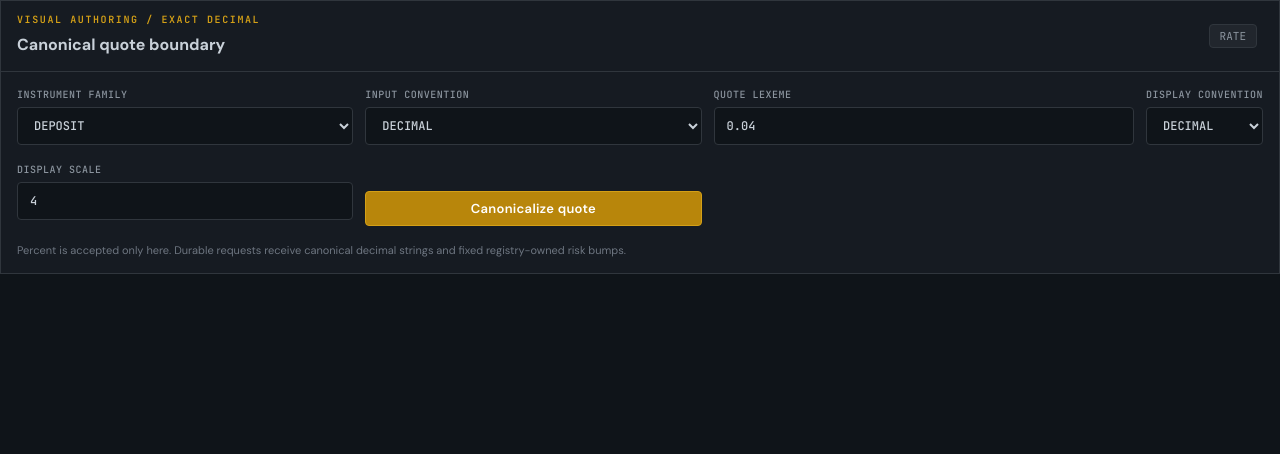
Test: Curve Lab quote authoring › replaces percent authoring with returned canonical financial bytes
Select "IRS" in the dropdown labelled "Instrument family" at [185, 126], box [17, 107, 353, 145]
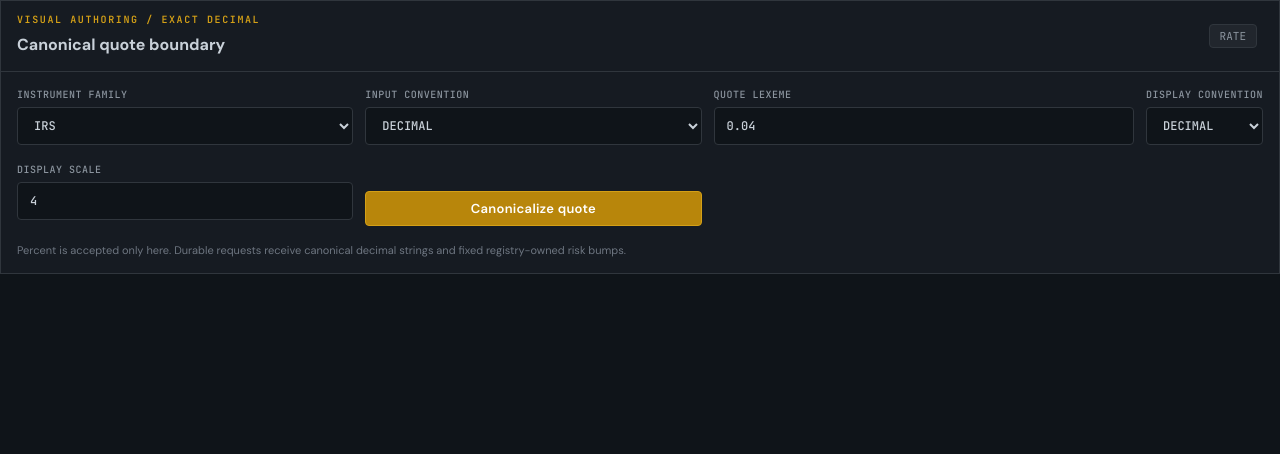
Select "PERCENT" in the dropdown labelled "Input convention" at [533, 126], box [365, 107, 702, 145]
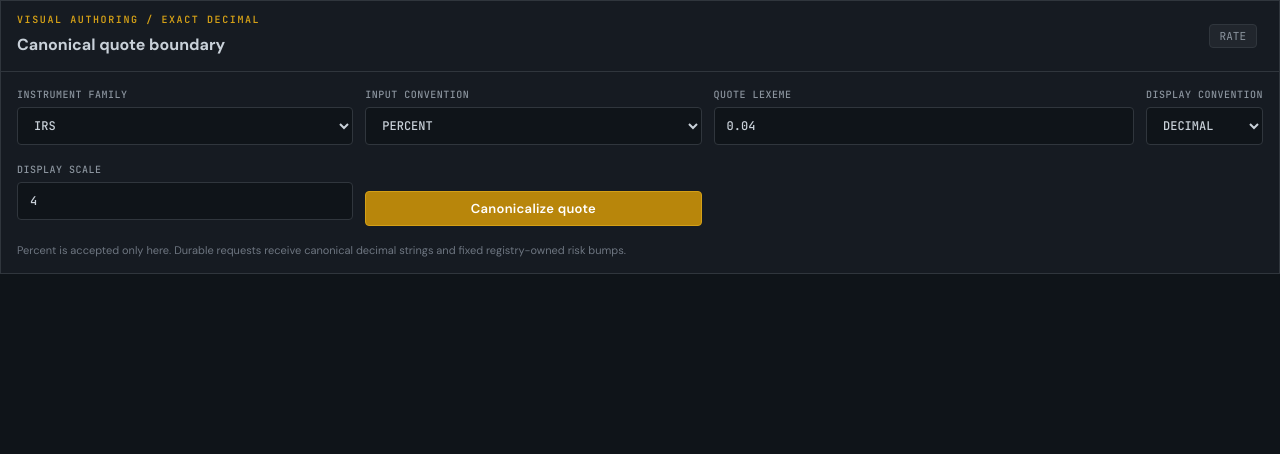
Replace the text in the field labelled "Quote lexeme" with "4" at [924, 126], box [714, 107, 1134, 145]
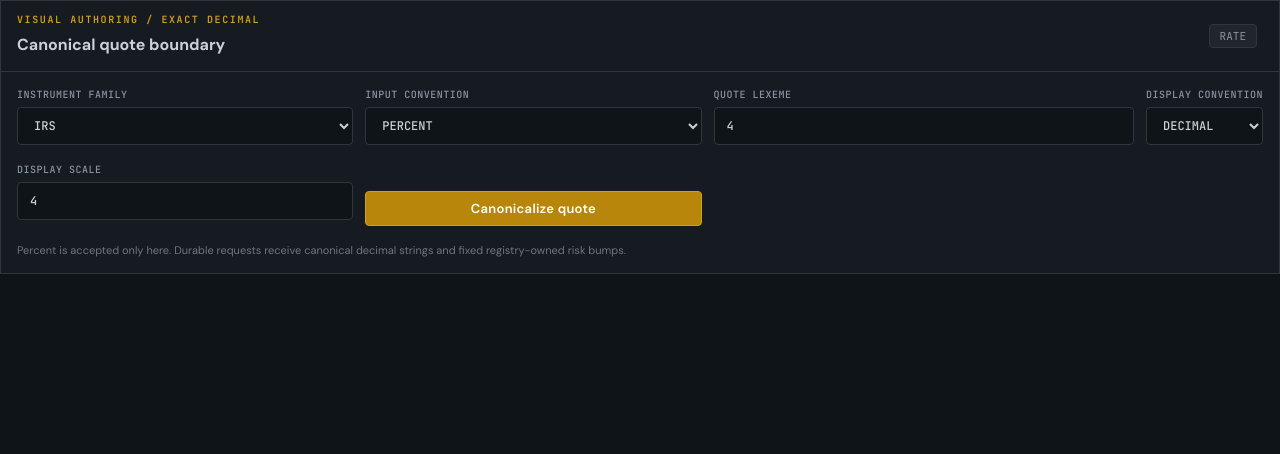
Click the button "Canonicalize quote".
click(533, 208)  # box [365, 191, 702, 226]
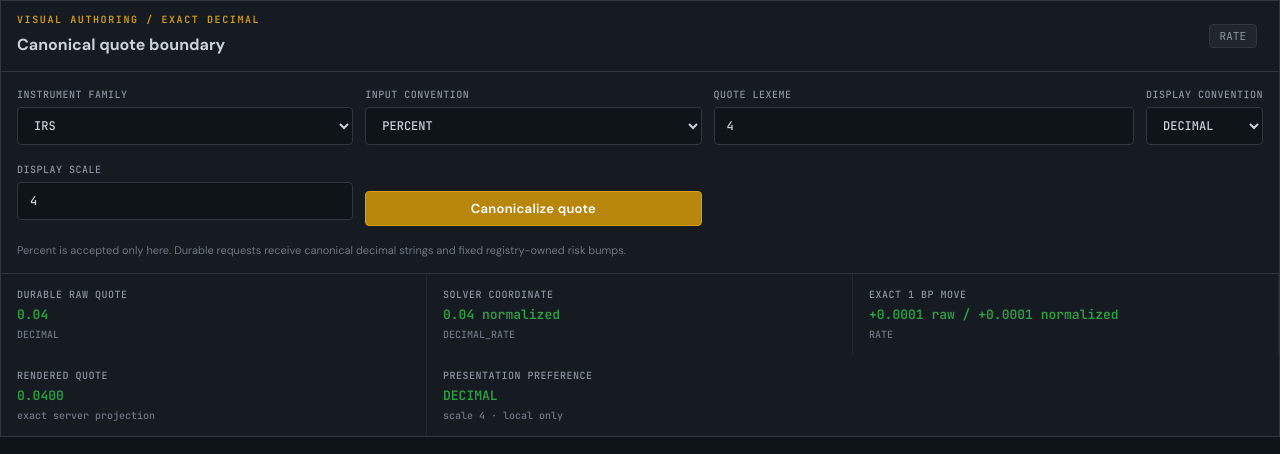
Result: the text "0.04" is shown at [17, 306, 48, 322]
Result: the text "+0.0001 raw / +0.0001 normalized" is shown at [869, 306, 1119, 322]
